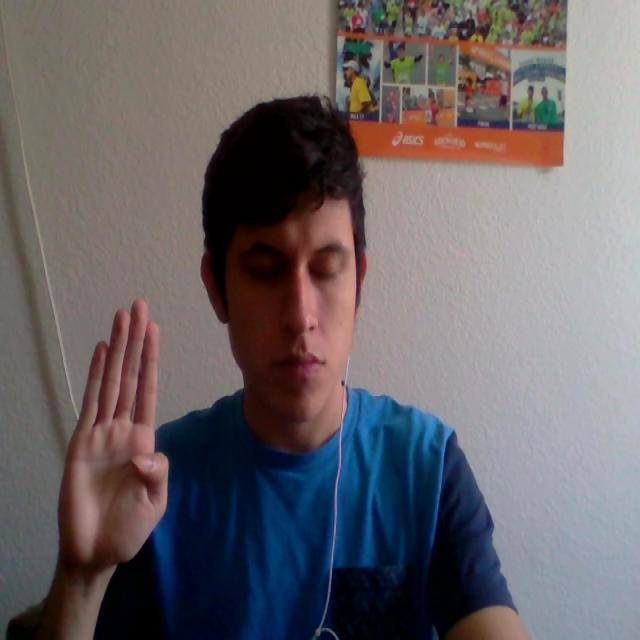B: (54, 278, 184, 586)
